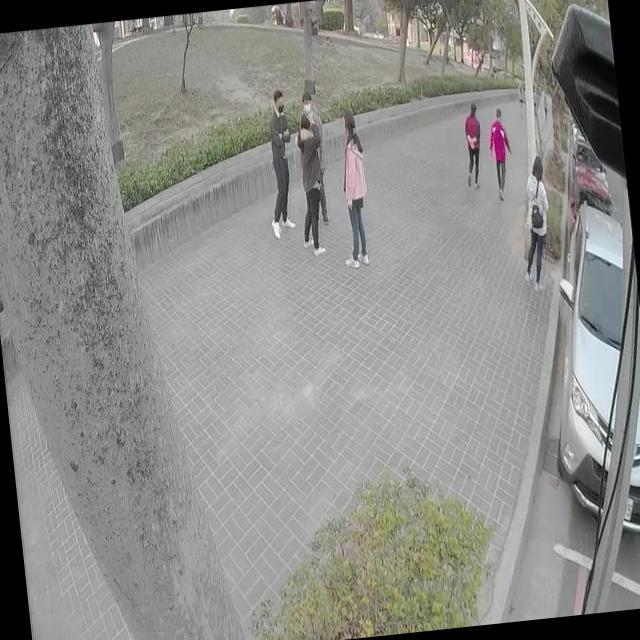person: (334, 111, 373, 269), (257, 90, 298, 237), (290, 106, 330, 250), (513, 157, 555, 285), (300, 90, 330, 208), (484, 107, 516, 199), (458, 102, 486, 188)
